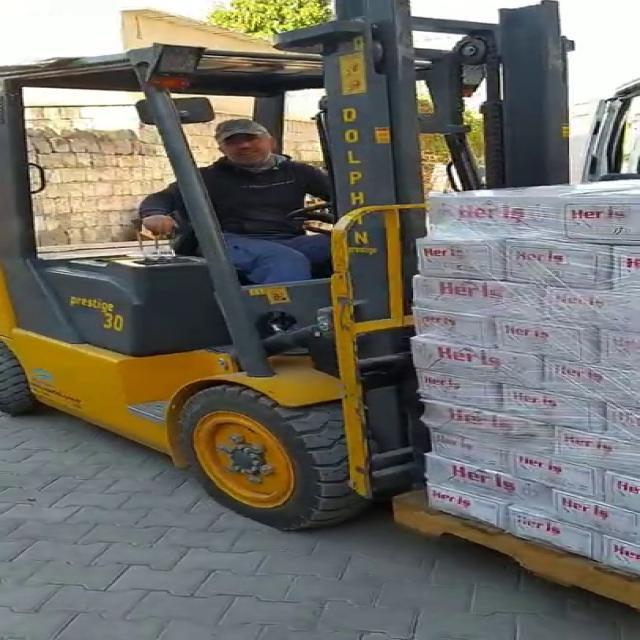box: (419, 183, 640, 582)
forklift: (3, 59, 489, 522)
person: (120, 106, 353, 305)
